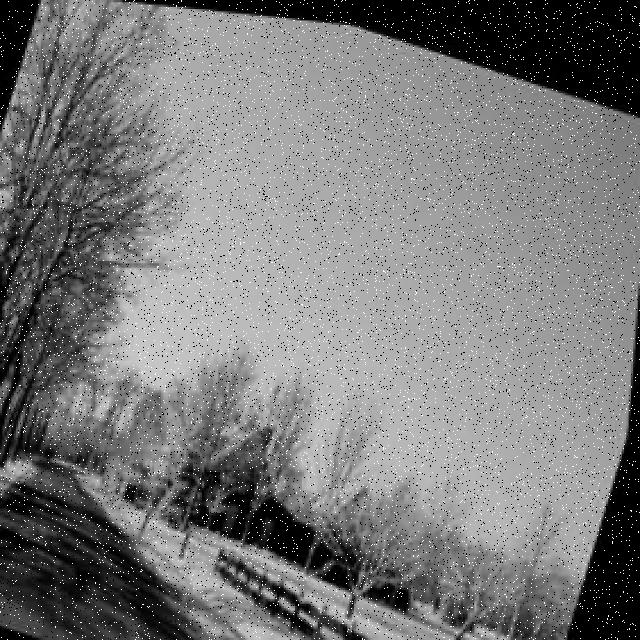ice-road: (0, 452, 219, 640)
